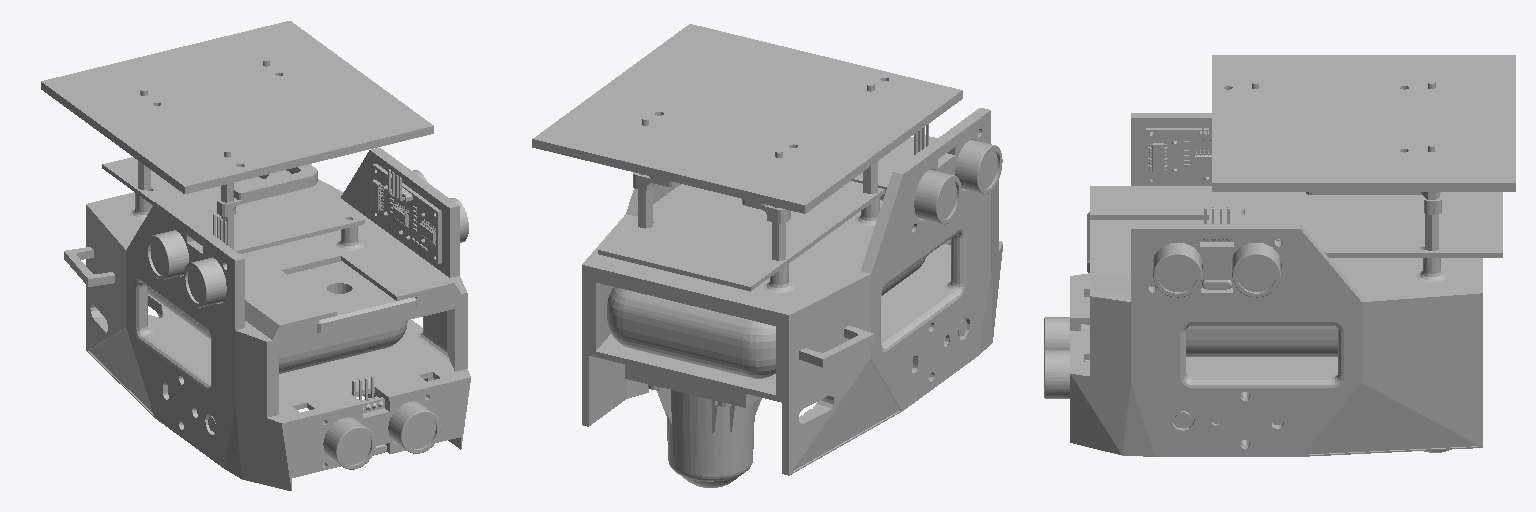
URDF robot description (dofbot_arm):
<?xml version="1.0" encoding="utf-8"?>
<!-- This URDF was automatically created by SolidWorks to URDF Exporter! Originally created by [author] ([email redacted]) 
     Commit Version: 1.6.0-1-g15f4949  Build Version: 1.6.7594.29634
     For more information, please see http://wiki.ros.org/sw_urdf_exporter -->
<robot
  name="dofbot_arm">
  <link
    name="base_link">
    <visual>
      <origin
        xyz="0 0 0"
        rpy="0 0 0" />
      <geometry>
        <mesh
          filename="package://dofbot_description/meshes/base_link.STL" />
      </geometry>
      <material
        name="">
        <color
          rgba="0.75294 0.75294 0.75294 1" />
      </material>
    </visual>
    <collision>
      <origin
        xyz="0 0 0"
        rpy="0 0 0" />
      <geometry>
        <mesh
          filename="package://dofbot_description/meshes/base_link.STL" />
      </geometry>
    </collision>
  </link>
  <link
    name="waist_link">
    <inertial>
      <origin
        xyz="4.0766E-08 -9.5693E-05 0.079382"
        rpy="0 0 0" />
      <mass
        value="0.051689" />
      <inertia
        ixx="1.1117E-05"
        ixy="-1.7636E-21"
        ixz="2.599E-21"
        iyy="9.658E-06"
        iyz="-1.3982E-20"
        izz="1.6341E-05" />
    </inertial>
    <visual>
      <origin
        xyz="0 0 0"
        rpy="0 0 0" />
      <geometry>
        <mesh
          filename="package://dofbot_description/meshes/waist_link.STL" />
      </geometry>
      <material
        name="">
        <color
          rgba="0.75294 1 0.75294 1" />
      </material>
    </visual>
    <collision>
      <origin
        xyz="0 0 0"
        rpy="0 0 0" />
      <geometry>
        <mesh
          filename="package://dofbot_description/meshes/waist_link.STL" />
      </geometry>
    </collision>
  </link>
  <joint
    name="base_waist_joint"
    type="revolute">
    <origin
      xyz="0.07217 0 0"
      rpy="0 0 0" />
    <parent
      link="base_link" />
    <child
      link="waist_link" />
    <axis
      xyz="0 0 1" />
    <limit
      lower="-2.618"
      upper="2.618"
      effort="1.5"
      velocity="3.1416" />
  </joint>
  <link
    name="shoulder_link">
    <inertial>
      <origin
        xyz="-0.0026577 -0.0001513 0.036757"
        rpy="0 0 0" />
      <mass
        value="0.039014" />
      <inertia
        ixx="1.684E-05"
        ixy="1.1195E-09"
        ixz="1.3557E-10"
        iyy="1.3033E-05"
        iyz="2.4457E-09"
        izz="7.6638E-06" />
    </inertial>
    <visual>
      <origin
        xyz="0 0 0"
        rpy="0 0 0" />
      <geometry>
        <mesh
          filename="package://dofbot_description/meshes/shoulder_link.STL" />
      </geometry>
      <material
        name="">
        <color
          rgba="0.75294 1 0.75294 1" />
      </material>
    </visual>
    <collision>
      <origin
        xyz="0 0 0"
        rpy="0 0 0" />
      <geometry>
        <mesh
          filename="package://dofbot_description/meshes/shoulder_link.STL" />
      </geometry>
    </collision>
  </link>
  <joint
    name="waist_shoulder_joint"
    type="revolute">
    <origin
      xyz="-0.0017793 0.00049752 0.10498"
      rpy="0 0 0" />
    <parent
      link="waist_link" />
    <child
      link="shoulder_link" />
    <axis
      xyz="0 1 0" />
    <limit
      lower="-2.618"
      upper="2.618"
      effort="1.5"
      velocity="3.1416" />
  </joint>
  <link
    name="arm_link">
    <inertial>
      <origin
        xyz="-0.0029633 -0.0001513 0.036757"
        rpy="0 0 0" />
      <mass
        value="0.039014" />
      <inertia
        ixx="1.684E-05"
        ixy="1.1195E-09"
        ixz="1.3557E-10"
        iyy="1.3033E-05"
        iyz="2.4457E-09"
        izz="7.6638E-06" />
    </inertial>
    <visual>
      <origin
        xyz="0 0 0"
        rpy="0 0 0" />
      <geometry>
        <mesh
          filename="package://dofbot_description/meshes/arm_link.STL" />
      </geometry>
      <material
        name="">
        <color
          rgba="0.75294 1 0.75294 1" />
      </material>
    </visual>
    <collision>
      <origin
        xyz="0 0 0"
        rpy="0 0 0" />
      <geometry>
        <mesh
          filename="package://dofbot_description/meshes/arm_link.STL" />
      </geometry>
    </collision>
  </link>
  <joint
    name="shoulder_arm_joint"
    type="revolute">
    <origin
      xyz="0.00030564 0 0.084119"
      rpy="0 0 0" />
    <parent
      link="shoulder_link" />
    <child
      link="arm_link" />
    <axis
      xyz="0 1 0" />
    <limit
      lower="-2.618"
      upper="2.618"
      effort="1.5"
      velocity="3.1416" />
  </joint>
  <link
    name="wrist_link">
    <inertial>
      <origin
        xyz="-0.003355 -1.0383E-05 0.035742"
        rpy="0 0 0" />
      <mass
        value="0.04388" />
      <inertia
        ixx="1.4107E-05"
        ixy="1.0323E-09"
        ixz="-9.7935E-07"
        iyy="1.5344E-05"
        iyz="3.5666E-09"
        izz="9.3532E-06" />
    </inertial>
    <visual>
      <origin
        xyz="0 0 0"
        rpy="0 0 0" />
      <geometry>
        <mesh
          filename="package://dofbot_description/meshes/wrist_link.STL" />
      </geometry>
      <material
        name="">
        <color
          rgba="0.75294 1 0.75294 1" />
      </material>
    </visual>
    <collision>
      <origin
        xyz="0 0 0"
        rpy="0 0 0" />
      <geometry>
        <mesh
          filename="package://dofbot_description/meshes/wrist_link.STL" />
      </geometry>
    </collision>
  </link>
  <joint
    name="arm_wrist_joint"
    type="revolute">
    <origin
      xyz="0.00030564 0 0.084119"
      rpy="0 0 0" />
    <parent
      link="arm_link" />
    <child
      link="wrist_link" />
    <axis
      xyz="0 1 0" />
    <limit
      lower="-2.618"
      upper="2.618"
      effort="1.5"
      velocity="3.1416" />
  </joint>
  <link
    name="hand_link">
    <inertial>
      <origin
        xyz="0.013681 -0.0021076 0.025809"
        rpy="0 0 0" />
      <mass
        value="0.05608" />
      <inertia
        ixx="9.7798E-06"
        ixy="-1.9352E-08"
        ixz="-6.004E-08"
        iyy="3.7845E-06"
        iyz="3.1265E-08"
        izz="8.1837E-06" />
    </inertial>
    <visual>
      <origin
        xyz="0 0 0"
        rpy="0 0 0" />
      <geometry>
        <mesh
          filename="package://dofbot_description/meshes/hand_link.STL" />
      </geometry>
      <material
        name="">
        <color
          rgba="0.75294 1 0.75294 1" />
      </material>
    </visual>
    <collision>
      <origin
        xyz="0 0 0"
        rpy="0 0 0" />
      <geometry>
        <mesh
          filename="package://dofbot_description/meshes/hand_link.STL" />
      </geometry>
    </collision>
  </link>
  <joint
    name="wrist_hand_joint"
    type="revolute">
    <origin
      xyz="0.0016634 -4.333E-05 0.078049"
      rpy="0 0 0" />
    <parent
      link="wrist_link" />
    <child
      link="hand_link" />
    <axis
      xyz="0.0020642 0 1" />
    <limit
      lower="-2.618"
      upper="2.618"
      effort="1.5"
      velocity="3.1416" />
  </joint>
  <link
    name="end_efector">
    <inertial>
      <origin
        xyz="-0.0023697 -0.0012951 -0.042439"
        rpy="0 0 0" />
      <mass
        value="0.024858" />
      <inertia
        ixx="4.761E-06"
        ixy="1.6573E-11"
        ixz="6.7243E-09"
        iyy="3.3465E-06"
        iyz="-8.0284E-09"
        izz="1.5035E-06" />
    </inertial>
    <visual>
      <origin
        xyz="0 0 0"
        rpy="0 0 0" />
      <geometry>
        <mesh
          filename="package://dofbot_description/meshes/end_efector.STL" />
      </geometry>
      <material
        name="">
        <color
          rgba="0.89804 0.91765 0.92941 1" />
      </material>
    </visual>
    <collision>
      <origin
        xyz="0 0 0"
        rpy="0 0 0" />
      <geometry>
        <mesh
          filename="package://dofbot_description/meshes/end_efector.STL" />
      </geometry>
    </collision>
  </link>
  <joint
    name="EF"
    type="fixed">
    <origin
      xyz="-0.00017603 0 0.085277"
      rpy="0 0 0" />
    <parent
      link="hand_link" />
    <child
      link="end_efector" />
    <axis
      xyz="0 0 0" />
  </joint>
</robot>

--- Facts derived from the render (not from the file) ---
The picture shows the robot from 3 angles, left to right: view 1: azimuth 30°, elevation 25°; view 2: azimuth 150°, elevation 25°; view 3: azimuth 270°, elevation 25°; orthographic projection.
Model dofbot_arm with 7 links and 6 joints (5 revolute, 1 fixed), rooted at base_link, posed every joint at zero.
Links seen in each view (by area): view 1: base_link; view 2: base_link; view 3: base_link.
Link boxes in pixels (x1,y1,x2,y2): base_link: (41, 21, 470, 490); base_link: (532, 24, 1002, 487); base_link: (1044, 55, 1515, 456).
Bounding box of the posed robot: 0.106 × 0.1551 × 0.122 m (x, y, z).
1 mesh visuals loaded from 7 distinct referenced files (1 binary STL); not drawn: 6 (reference not matched to a file when rendering).